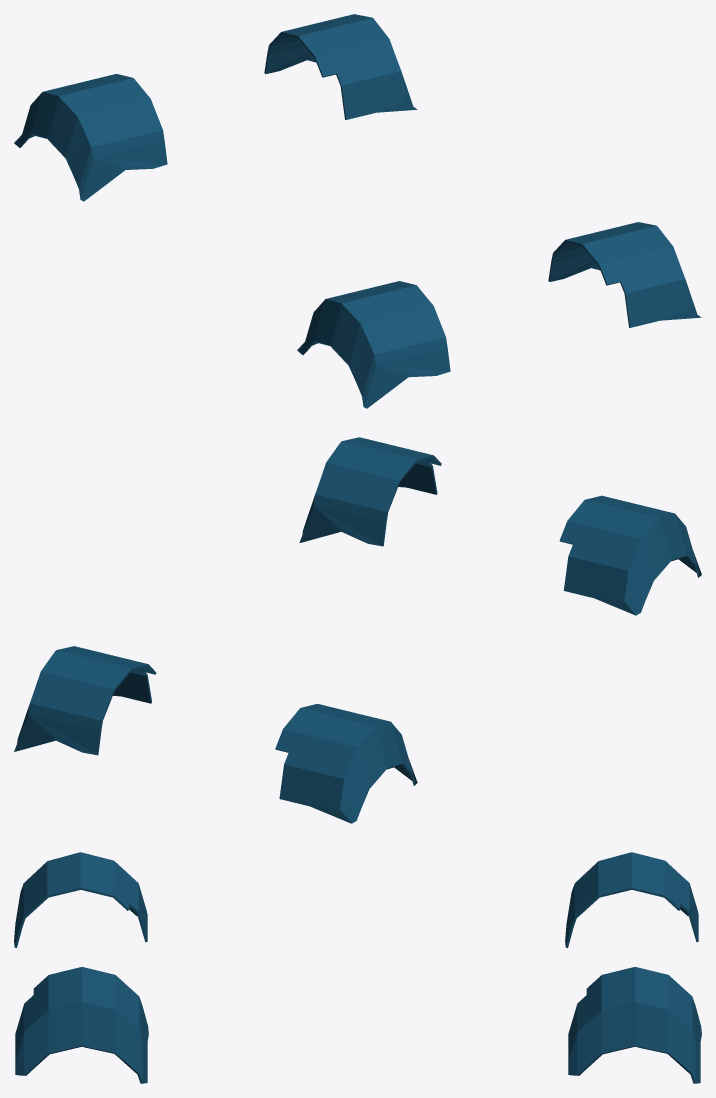
The model's file is wheelGuards1.glb.
3 renders of one model, top to bottom at view 1: azimuth 30°, elevation 25°; view 2: azimuth 150°, elevation 25°; view 3: azimuth 270°, elevation 25°, orthographic. The views are drawn at different scales.
Parts seen in each view (by area): view 1: wheelGuards1; view 2: wheelGuards1; view 3: wheelGuards1.
Boxes of the visible parts, <box> form: wheelGuards1: <box>14,14,701,408</box>; wheelGuards1: <box>14,437,701,823</box>; wheelGuards1: <box>14,852,701,1083</box>.
Bounding box in the file's own units: 3.71 × 0.8286 × 6.66.
Materials: 1 (1 with a texture image).
